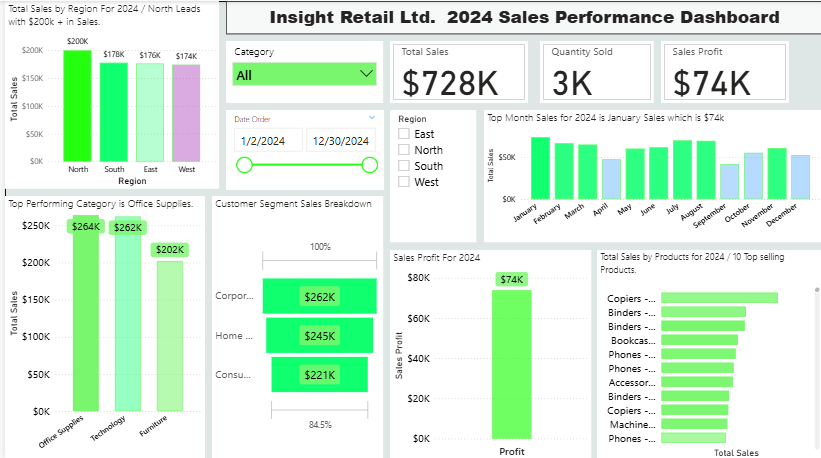

The dashboard page shown, as its layout file describes it:
{"tool":"powerbi","page":{"name":"Page 1","canvas":[1280,720],"ordinal":0},"visuals":[{"type":"textbox","box":[345.9,0,934.4,51.7],"z":0},{"type":"shape","box":[0,11,313,242.6],"z":1000},{"type":"cardVisual","fields":{"Data":["Sheet1.Total Sales"]},"box":[602.6,62.6,216,97],"z":2000},{"type":"cardVisual","fields":{"Data":["Sheet1.Quantity Sold"]},"box":[837.4,62.6,178.4,97],"z":3000},{"type":"cardVisual","fields":{"Data":["Sheet1.Sales Profit"]},"box":[1026.8,62.6,200.3,97],"z":4000},{"type":"columnChart","title":" Top Performing Category is Office Supplies.","fields":{"Category":["Sheet1.Category"],"Y":["Sheet1.Total Sales"]},"box":[0,305.2,313,414.8],"z":5000},{"type":"columnChart","title":"Top Month Sales for 2024 is January Sales which is  $74k","fields":{"Category":["Sheet1.Order Date.Variation.Date Hierarchy.Month"],"Y":["Sheet1.Total Sales"]},"box":[749.7,170.6,530.6,206.6],"z":6000},{"type":"columnChart","title":"Total Sales by Region For 2024 / North Leads with $200k + in Sales.","fields":{"Category":["Sheet1.Region"],"Y":["Sheet1.Total Sales"]},"box":[0,0,335,294.3],"z":7000},{"type":"clusteredColumnChart","title":"Sales Profit For 2024","fields":{"Y":["Sheet1.Sales Profit"]},"box":[602.6,389.7,314.6,330.3],"z":8000},{"type":"slicer","fields":{"Values":["Sheet1.Order Date"]},"box":[345.9,170.6,245.7,123.7],"z":9000},{"type":"slicer","fields":{"Values":["Sheet1.Category"]},"box":[345.9,62.6,245.7,97],"z":10000},{"type":"funnel","title":"Customer Segment Sales Breakdown","fields":{"Category":["Sheet1.Customer Segment"],"Y":["Sheet1.Total Sales"]},"box":[324,305.2,267.7,414.8],"z":11000},{"type":"slicer","fields":{"Values":["Sheet1.Region"]},"box":[602.6,170.6,134.6,206.6],"z":12000},{"type":"barChart","title":"Total Sales by Products for 2024 / 10 Top selling Products.","fields":{"Category":["Sheet1.Product Name"],"Y":["Sheet1.Total Sales"]},"box":[926.6,389.7,353.7,330.3],"z":13000}]}

Visuals, with their boxes in screenshot pixels (x1, y1, x2, y2), scaled from the page's 1280x720 canvas onto the 821x458 screenshot:
textbox: detection(222, 0, 820, 33)
shape: detection(0, 7, 201, 161)
cardVisual - Sheet1.Total Sales: detection(387, 40, 525, 102)
cardVisual - Sheet1.Quantity Sold: detection(537, 40, 652, 102)
cardVisual - Sheet1.Sales Profit: detection(659, 40, 787, 102)
" Top Performing Category is Office Supplies." columnChart: detection(0, 194, 201, 457)
"Top Month Sales for 2024 is January Sales which is  $74k" columnChart: detection(481, 109, 820, 240)
"Total Sales by Region For 2024 / North Leads with $200k + in Sales." columnChart: detection(0, 0, 215, 187)
"Sales Profit For 2024" clusteredColumnChart: detection(387, 248, 588, 457)
slicer - Sheet1.Order Date: detection(222, 109, 379, 187)
slicer - Sheet1.Category: detection(222, 40, 379, 102)
"Customer Segment Sales Breakdown" funnel: detection(208, 194, 380, 457)
slicer - Sheet1.Region: detection(387, 109, 473, 240)
"Total Sales by Products for 2024 / 10 Top selling Products." barChart: detection(594, 248, 820, 457)
